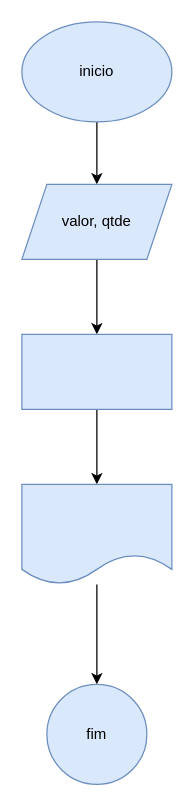
The diagram is 194 pixels wide and 806 high, and some of its shapes have lost their labels. Each missing label, with the centre of its shape:
"venda = valor*qtde comissao = (venda*5)/100" belongs at (96,371).
"vomissao" belongs at (96,533).
